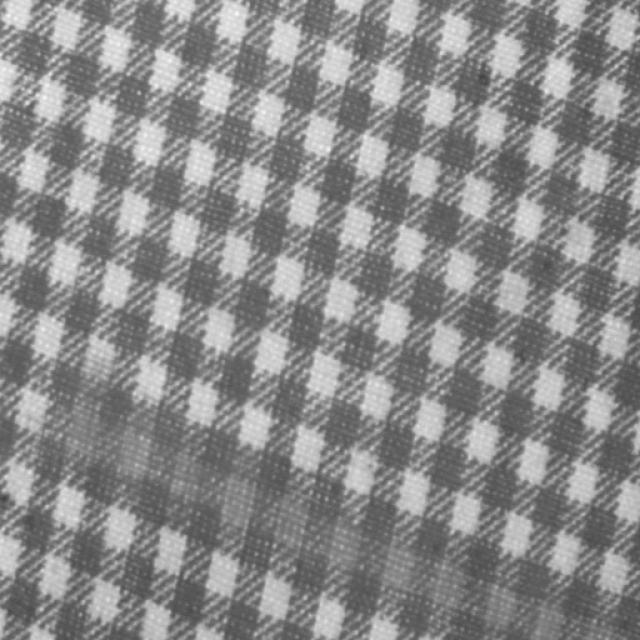Stain-Defect: (56, 397, 619, 639)
